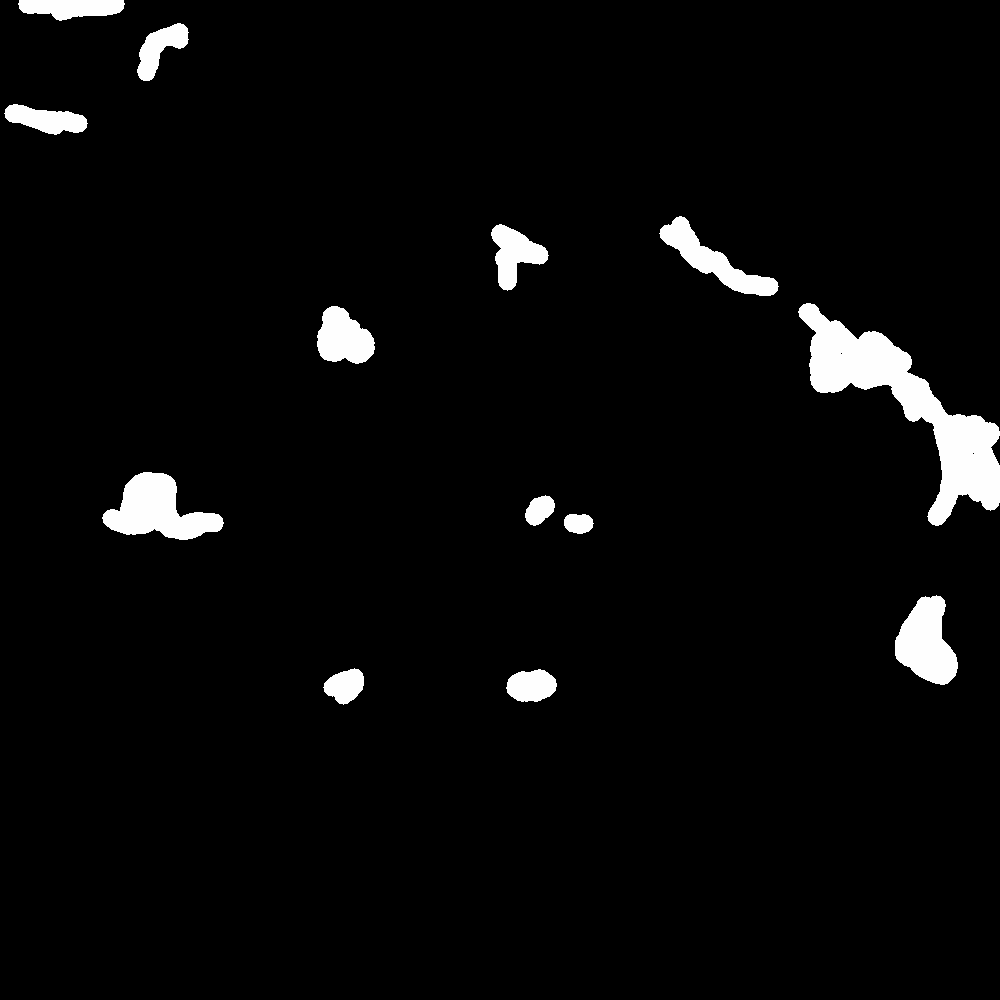illegal: (796, 298, 1000, 529), (666, 217, 772, 300), (321, 302, 381, 379), (294, 668, 372, 724), (488, 224, 526, 252)
